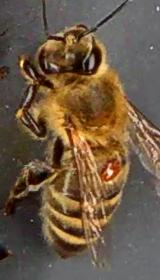varroa_mite: (88, 157, 125, 185)
